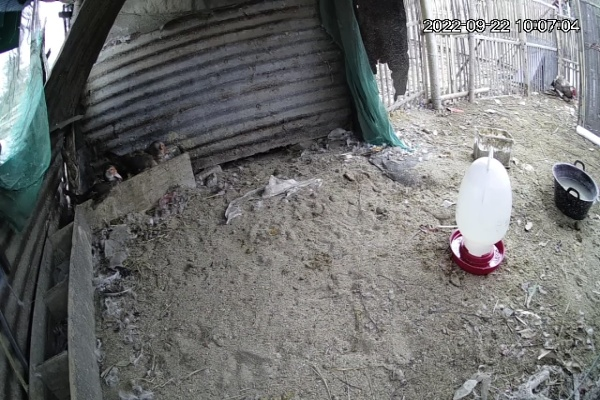Kawin: (544, 65, 584, 109)
